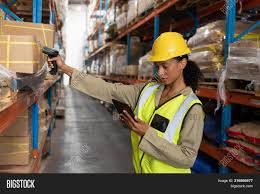Person_wearing_helmet: (139, 29, 192, 68)
